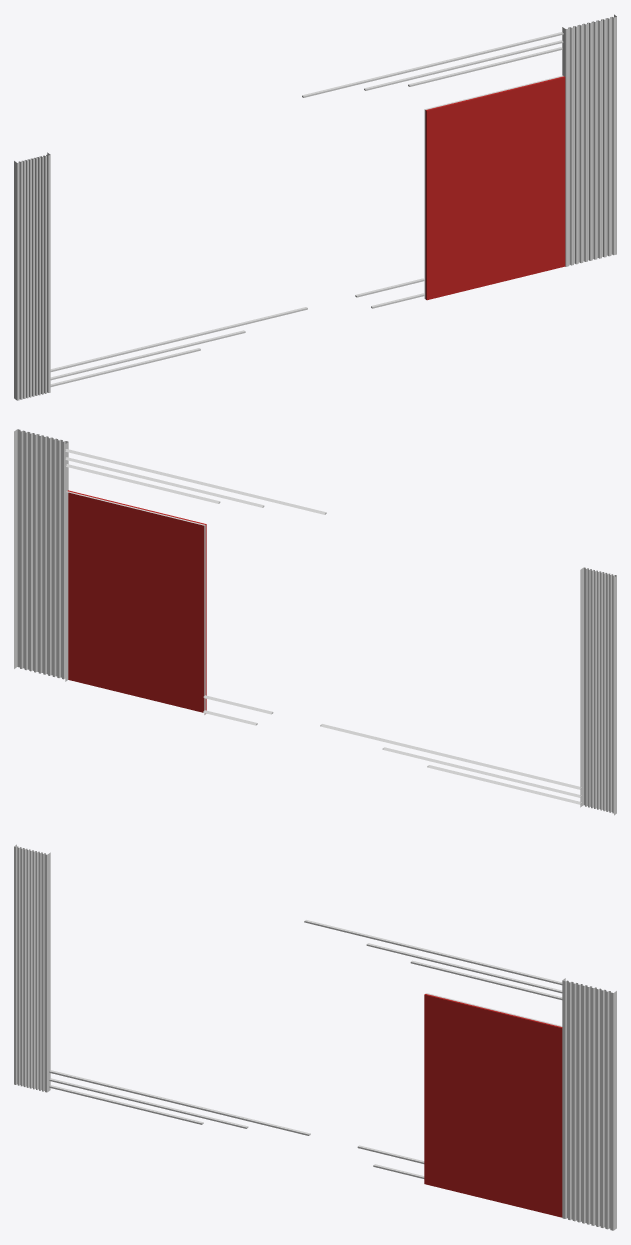
Rendered from board1.fbx.
The picture shows the model from 3 angles, top to bottom: view 1: azimuth 30°, elevation 25°; view 2: azimuth 150°, elevation 25°; view 3: azimuth 330°, elevation 25°; orthographic projection.
Parts seen in each view (by area): view 1: Board1; view 2: Board1; view 3: Board1.
Boxes of the visible parts, <box> form: Board1: <box>14,14,616,400</box>; Board1: <box>14,429,616,815</box>; Board1: <box>14,844,616,1230</box>.
Bounding box in the file's own units: 1306 × 495 × 14.76.
